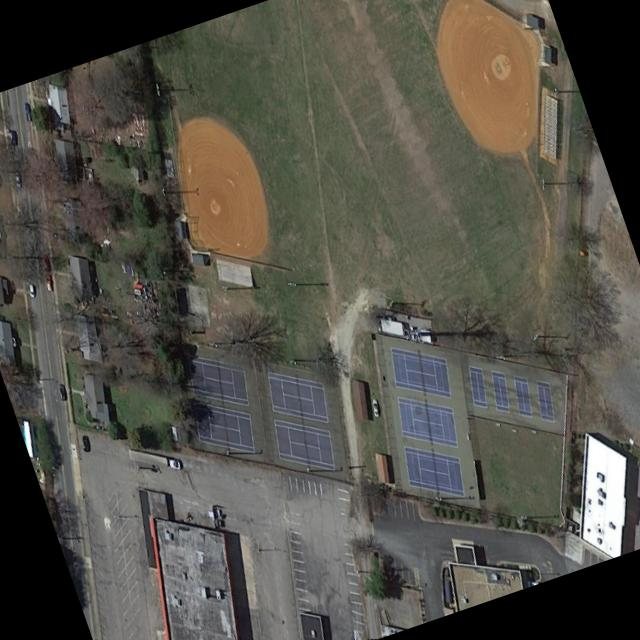large-vehicle: (127, 449, 180, 473)
small-vehicle: (40, 254, 49, 274), (80, 436, 89, 455), (23, 102, 31, 122), (44, 272, 51, 293), (57, 384, 65, 402), (13, 170, 20, 189), (371, 400, 378, 419), (27, 283, 34, 299)
